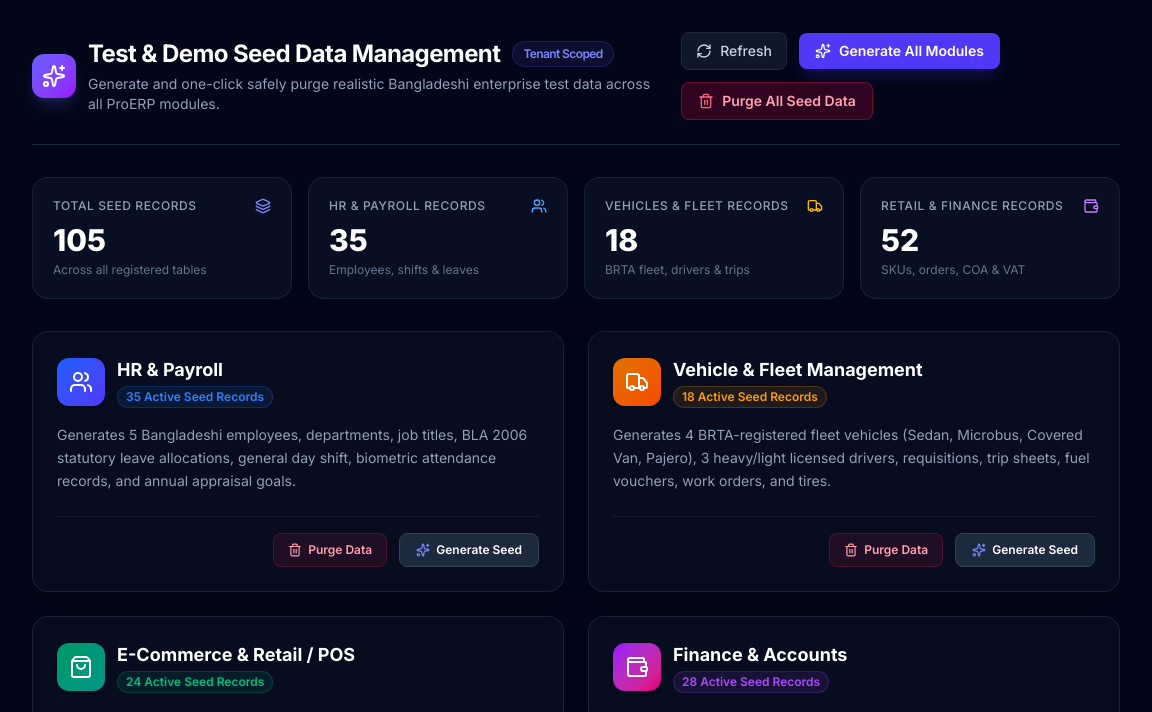
Test case: Administration - Seed Data Management Console › opens confirmation dialog and executes seed generation
Note: Click on "Generate All Modules"
Click the button "Generate All Modules".
click(899, 51)  # box [799,33,1000,69]
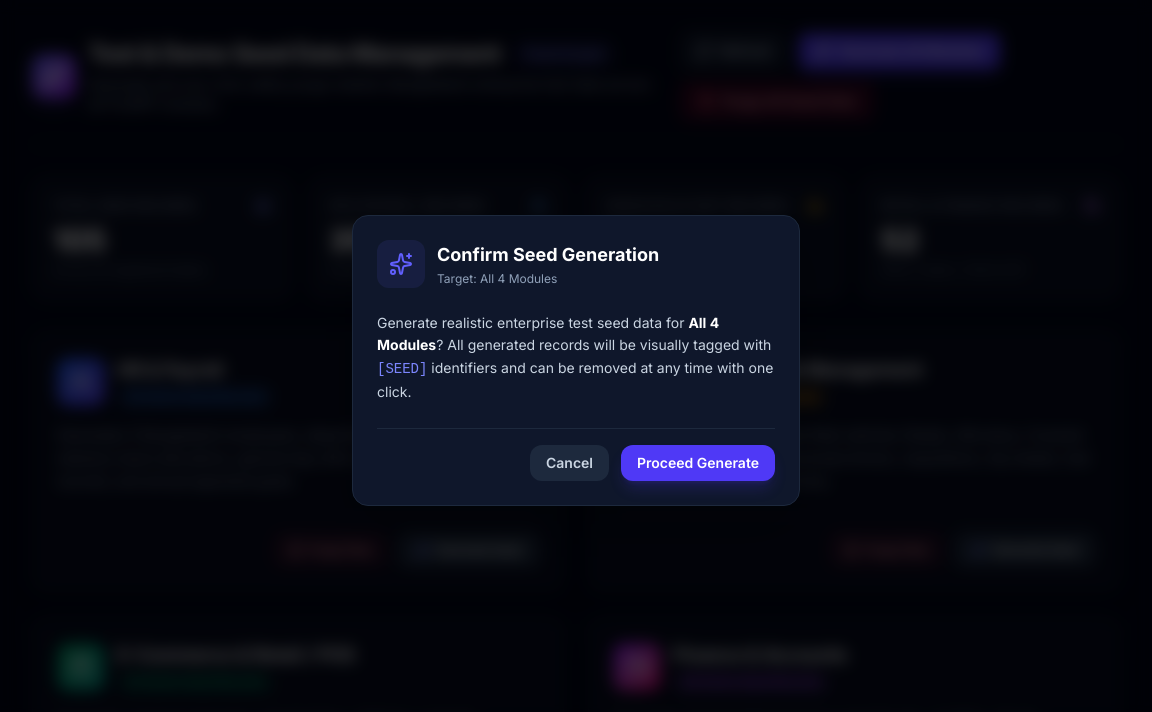
Now the heading "Confirm Seed Generation" is shown, box [437,240,659,268]
Note: Confirm button inside modal
Click the button "Proceed Generate".
click(698, 462)  # box [621,444,775,480]
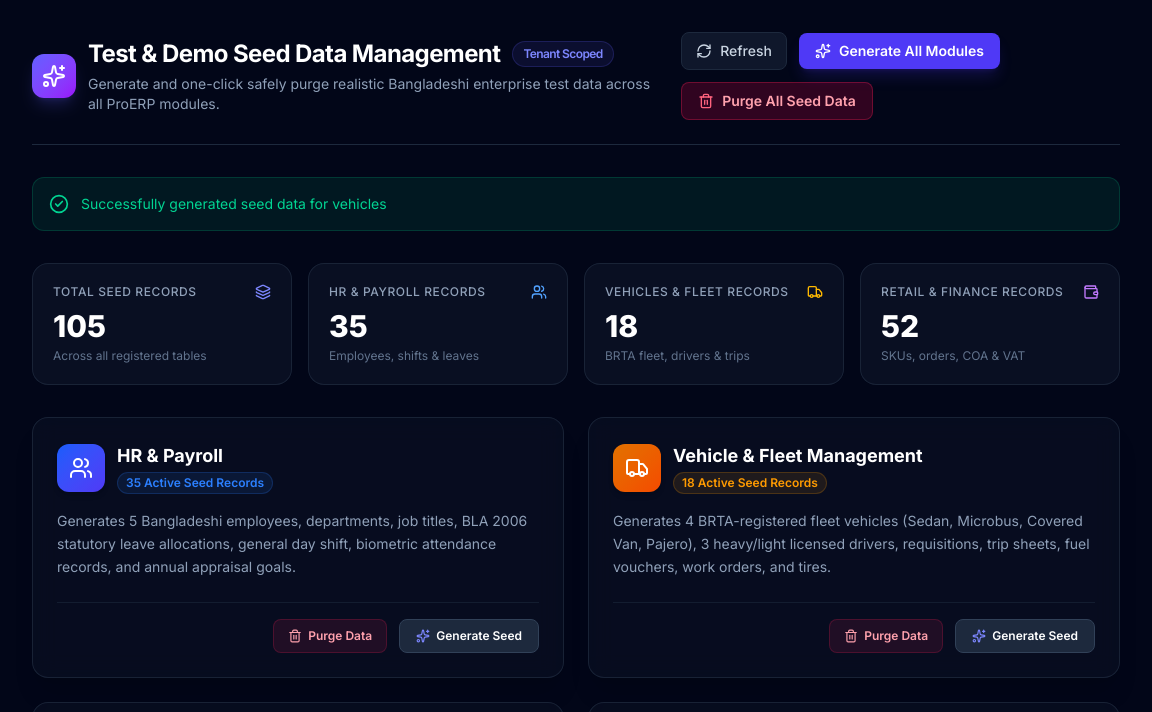
Now the text "Successfully generated seed data for vehicles" is shown, box [81,194,387,214]
